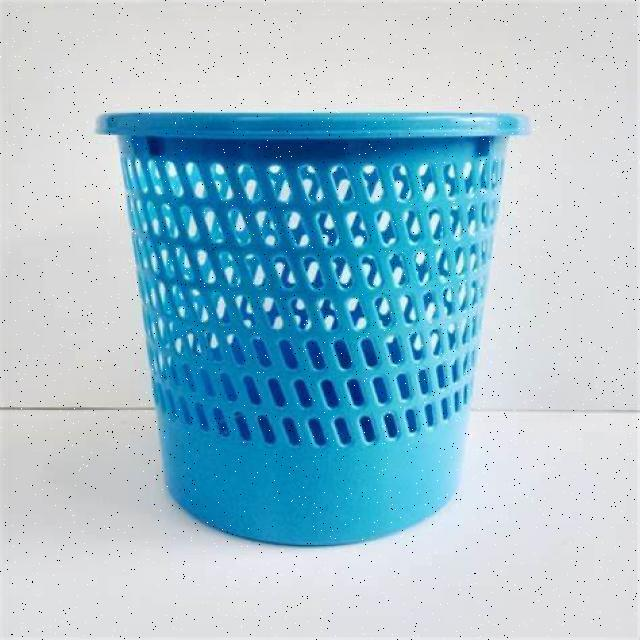garbage container: (77, 78, 565, 561)
